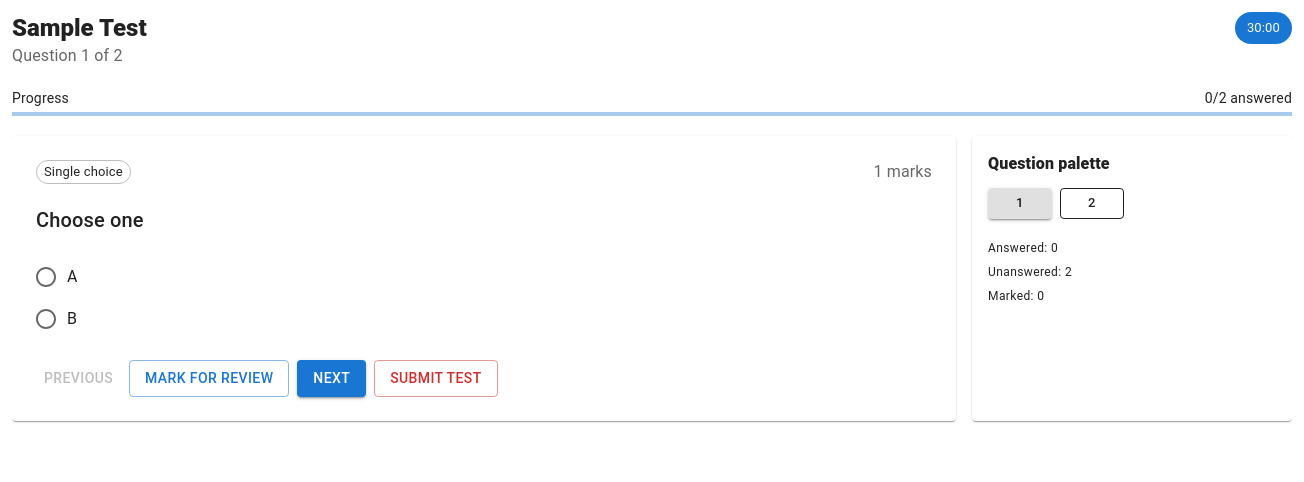
Test: AttemptPage test-taking experience › navigates next, previous, and palette within bounds
The width and height of the screenshot is (1304, 482).
Click the button "Next" at (332, 378), box [297,360,366,396]
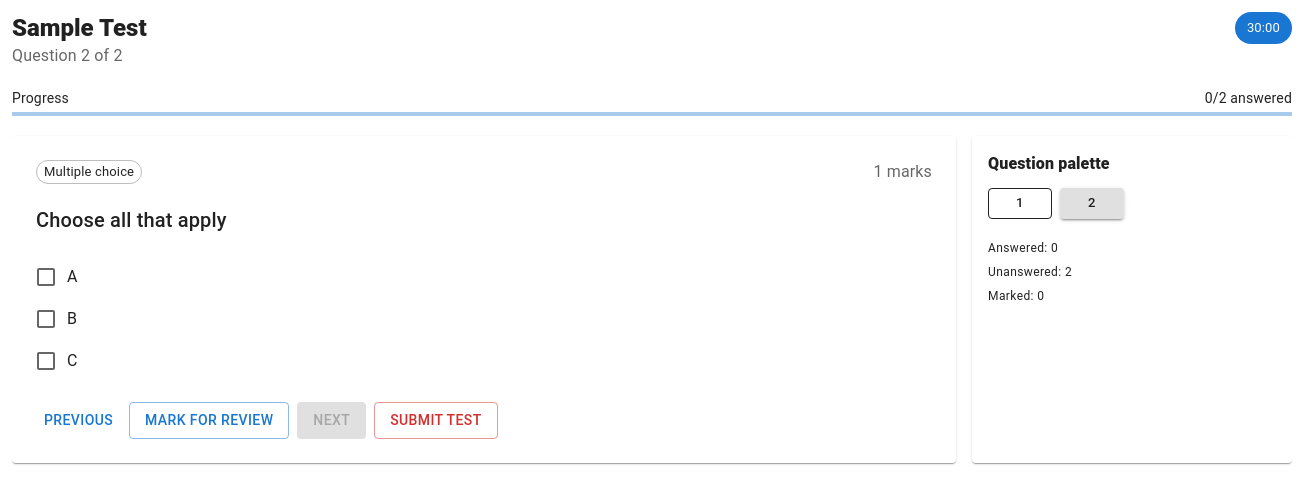
Expected: the text "Choose all that apply" is shown, [36,208,227,232]
Click the button "Previous" at (79, 420), box [36,402,121,438]
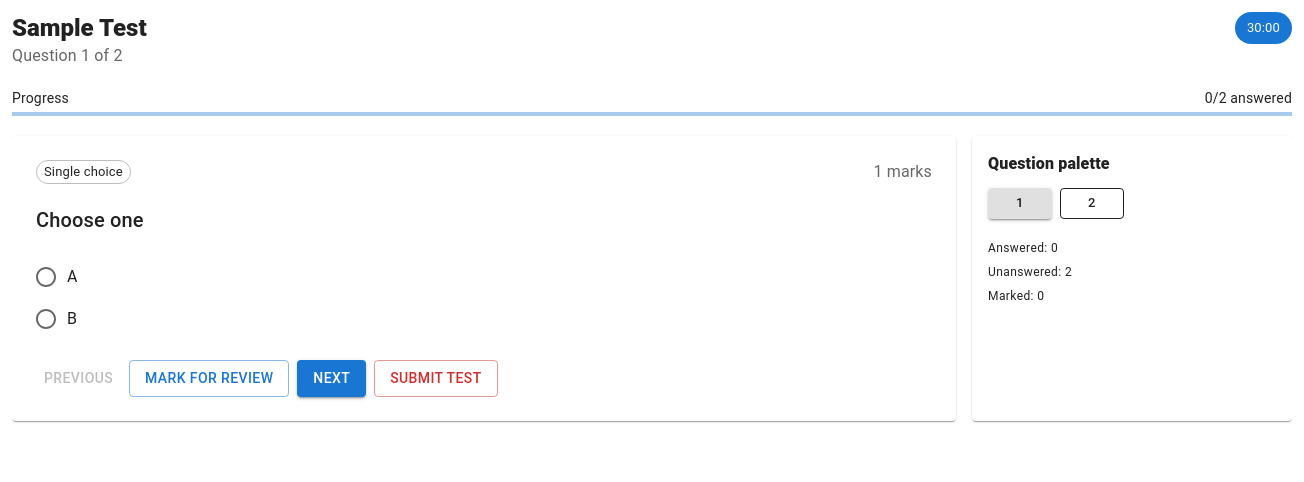
Expected: the text "Choose one" is shown, [36,208,144,232]
Click the button "2" at (1092, 203), box [1060,188,1124,219]
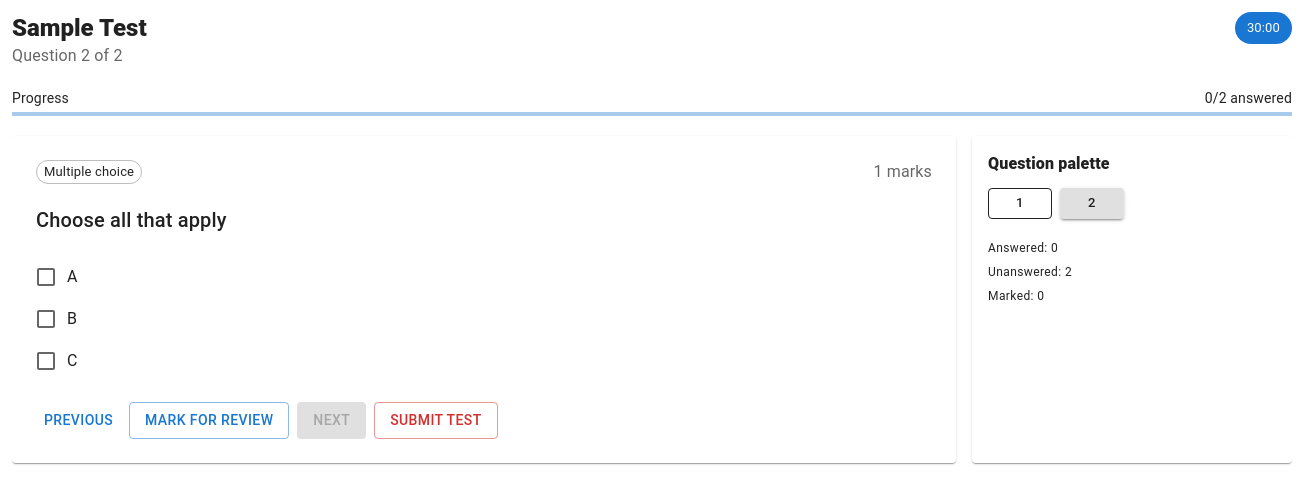
Expected: the text "Choose all that apply" is shown, [36,208,227,232]
